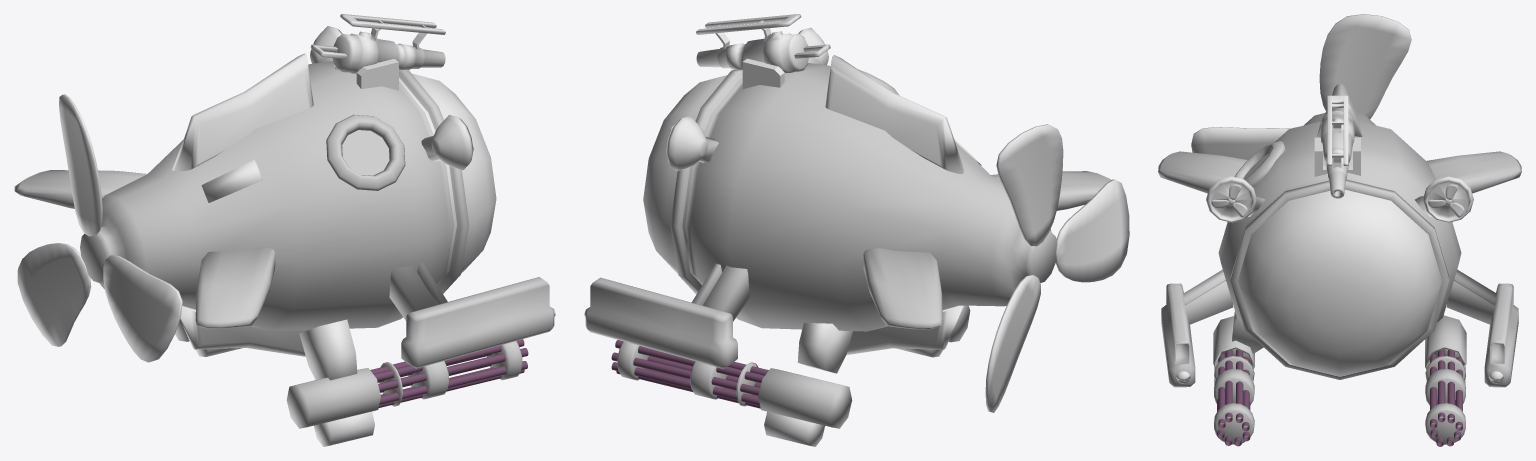
File: kanker (1).fbx
3 views of the same model, side by side, from view 1: azimuth 30°, elevation 25°; view 2: azimuth 150°, elevation 25°; view 3: azimuth 270°, elevation 25° (orthographic). The views are drawn at different scales.
Visible parts, largest first — view 1: Cylinder, Plane.002, Cube.005, Cylinder.001, Cube.004, Sphere.001, Cylinder.004, Cylinder.007, Torus.001, Cylinder.005, Plane, Torus.002 (+6 smaller); view 2: Cylinder, Plane.002, Cube.005, Cylinder.001, Cube.004, Sphere.001, Cylinder.004, Cylinder.006, Cylinder.005, Torus.002, Plane, Cylinder.010 (+3 smaller); view 3: Sphere.001, Cylinder, Plane.002, Cube.005, Cube.004, Cylinder.010, Torus.002, Cylinder.004, Cylinder.005, Cylinder.006, Cylinder.007, Torus.001 (+6 smaller).
Part boxes in pixels (x1,y1,x2,y2): Cylinder: (80,61,469,330); Plane.002: (17,94,182,362); Cube.005: (389,262,554,368); Cylinder.001: (172,53,313,356); Cube.004: (14,170,275,328); Sphere.001: (399,73,496,284); Cylinder.004: (175,320,380,428); Cylinder.007: (370,339,528,407); Torus.001: (326,114,405,190); Cylinder.005: (332,31,445,73); Plane: (299,319,357,380); Torus.002: (310,26,473,170); Cylinder: (670,63,1057,331); Plane.002: (985,124,1129,412); Cube.005: (585,263,749,368); Cylinder.001: (825,55,964,354); Cube.004: (863,171,1111,329); Sphere.001: (643,75,742,284); Cylinder.004: (758,305,970,428); Cylinder.006: (611,340,768,408); Cylinder.005: (696,31,808,72); Torus.002: (666,27,828,171); Plane: (797,322,852,373); Cylinder.010: (617,341,758,406); Sphere.001: (1238,189,1441,376); Cylinder: (1218,113,1461,379); Plane.002: (1191,14,1452,222); Cube.005: (1161,269,1518,387); Cube.004: (1158,151,1521,193); Cylinder.010: (1214,356,1465,444); Torus.002: (1206,176,1473,222); Cylinder.004: (1213,315,1466,368); Cylinder.005: (1320,110,1355,198); Cylinder.006: (1430,348,1462,446); Cylinder.007: (1217,349,1250,446); Torus.001: (1235,141,1285,186).
Size of the model in its own units: 1336 by 1191 by 1211.
